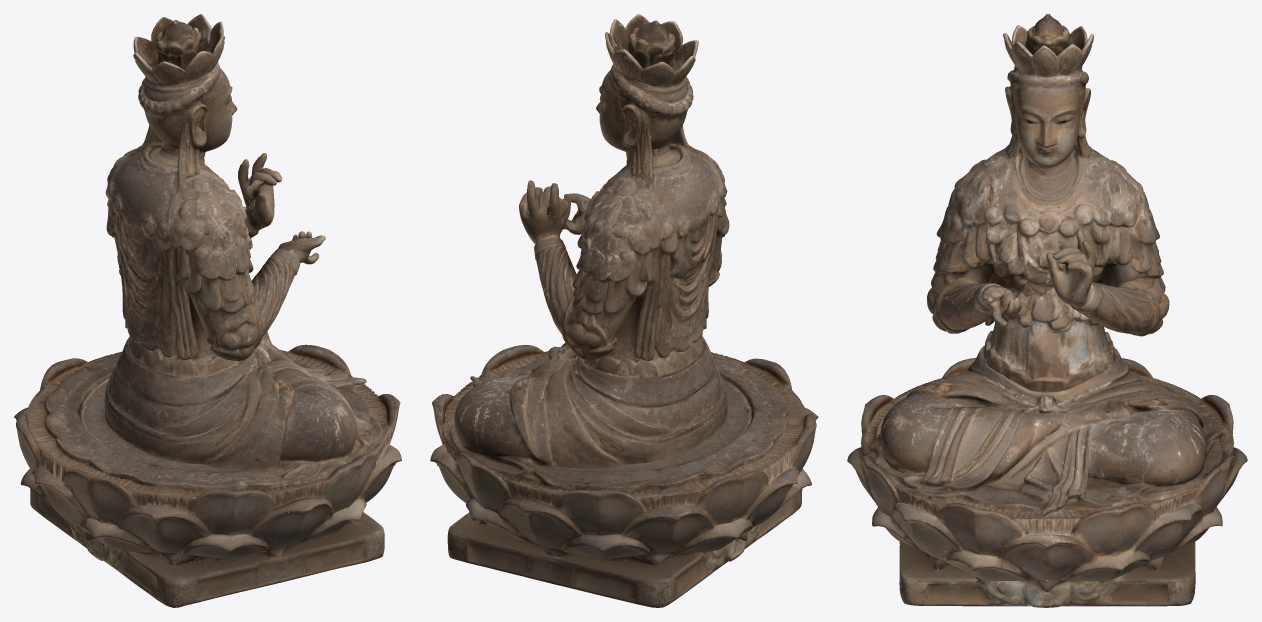
File: f5-vajrapani.glb
3 renders of one model, left to right at view 1: azimuth 30°, elevation 25°; view 2: azimuth 150°, elevation 25°; view 3: azimuth 270°, elevation 25°, orthographic.
Visible parts, largest first — view 1: tripo_node_9be3de14-4641-41b0-8a1e-fd38691368bc; view 2: tripo_node_9be3de14-4641-41b0-8a1e-fd38691368bc; view 3: tripo_node_9be3de14-4641-41b0-8a1e-fd38691368bc.
Boxes of the visible parts, x1=… form: tripo_node_9be3de14-4641-41b0-8a1e-fd38691368bc: x1=14, y1=14, x2=401, y2=607; tripo_node_9be3de14-4641-41b0-8a1e-fd38691368bc: x1=430, y1=14, x2=818, y2=607; tripo_node_9be3de14-4641-41b0-8a1e-fd38691368bc: x1=847, y1=14, x2=1247, y2=607.
Size of the model in its own units: 0.6991 by 1 by 0.6943.
1 material, 1 textured.
